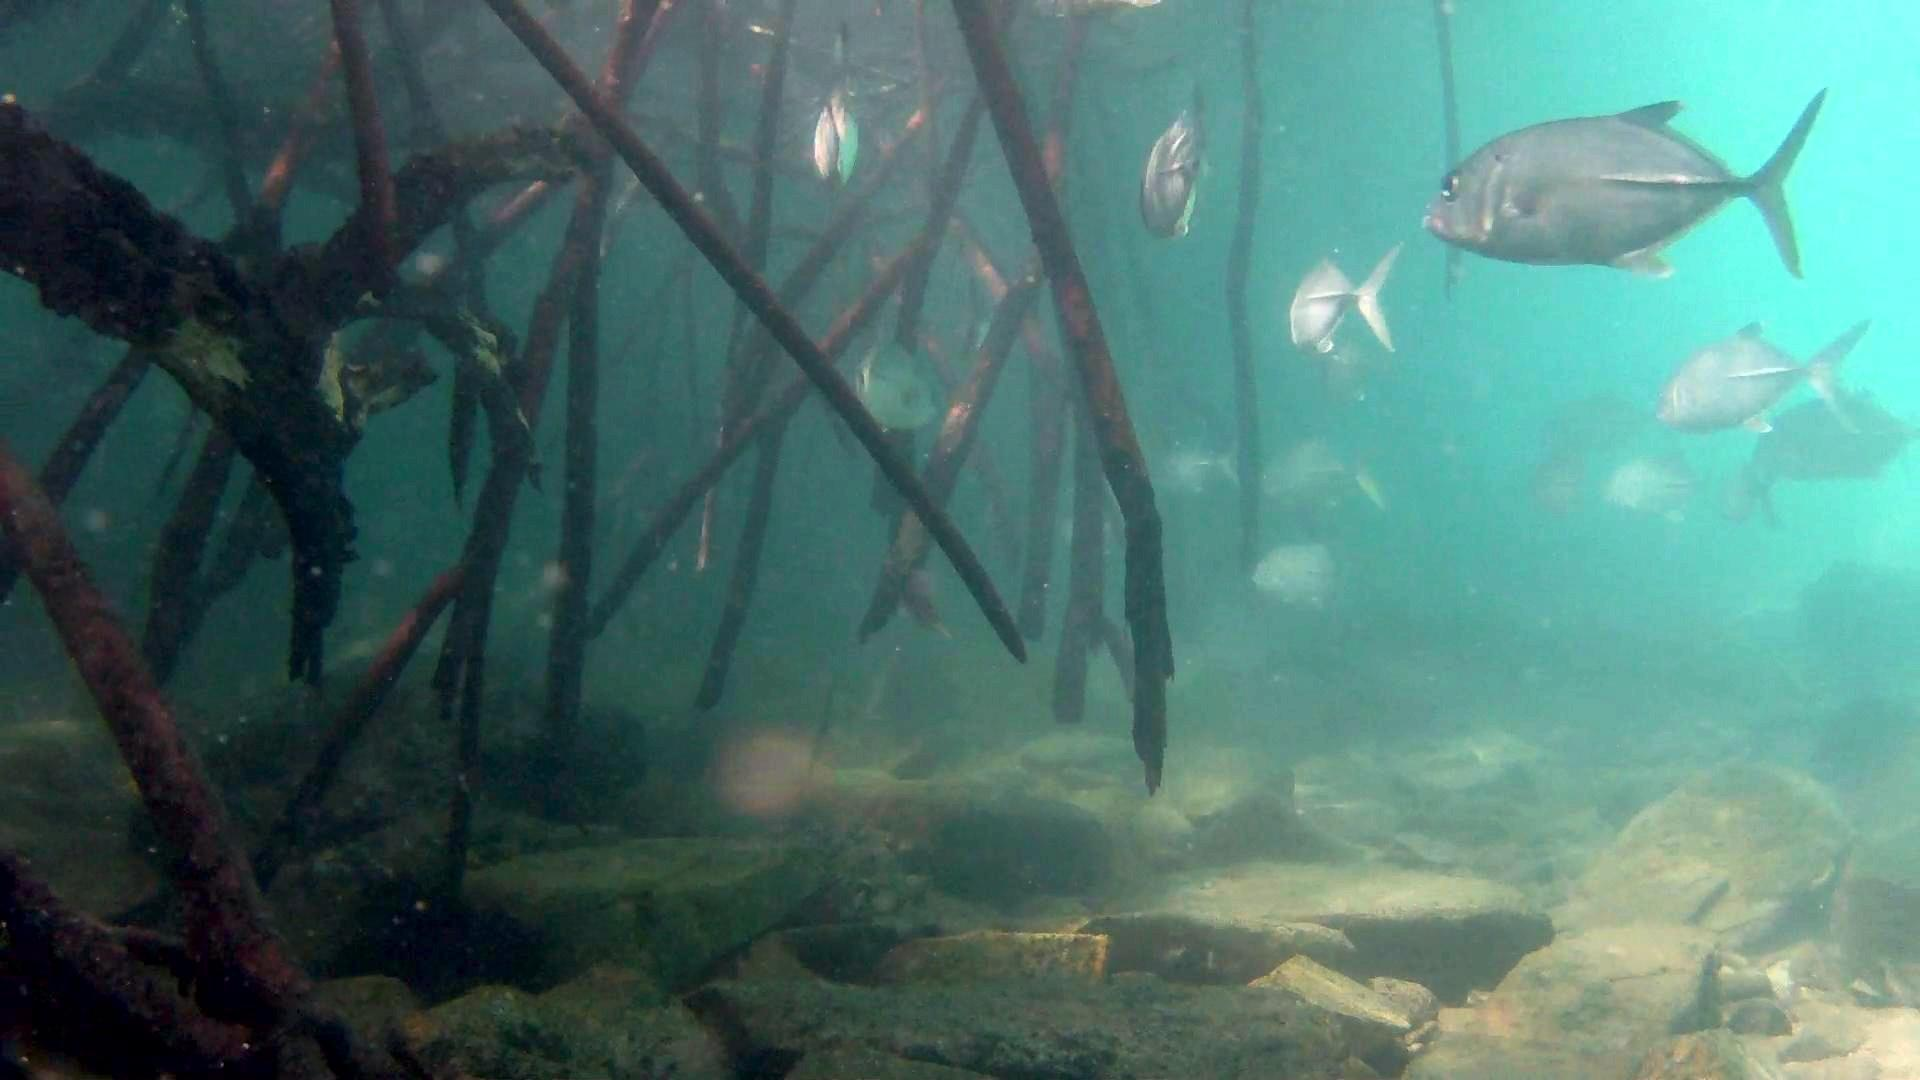caranx: (1409, 83, 1839, 294), (1125, 73, 1235, 261), (1277, 233, 1406, 373)
